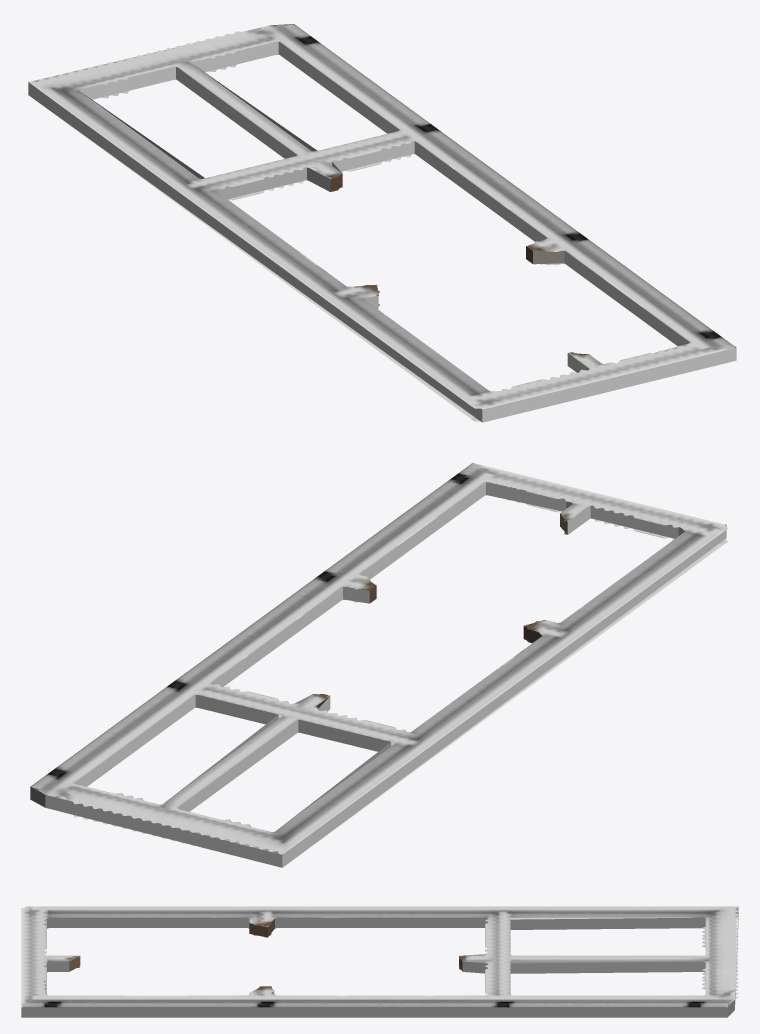
The model's file is pz_native_fixtures_windows_white_77_frame.obj.
3 renders of one model, top to bottom at view 1: azimuth 30°, elevation 25°; view 2: azimuth 150°, elevation 25°; view 3: azimuth 270°, elevation 25°, orthographic. The views are drawn at different scales.
Visible parts, largest first — view 1: pz_native_fixtures_windows_white_77_frame; view 2: pz_native_fixtures_windows_white_77_frame; view 3: pz_native_fixtures_windows_white_77_frame.
Boxes of the visible parts, bbox=[...] form: pz_native_fixtures_windows_white_77_frame: bbox=[28, 24, 736, 422]; pz_native_fixtures_windows_white_77_frame: bbox=[30, 463, 727, 867]; pz_native_fixtures_windows_white_77_frame: bbox=[21, 906, 738, 1017].
Size of the model in its own units: 0.875 by 0.04 by 2.54.
1 material, 1 textured.
